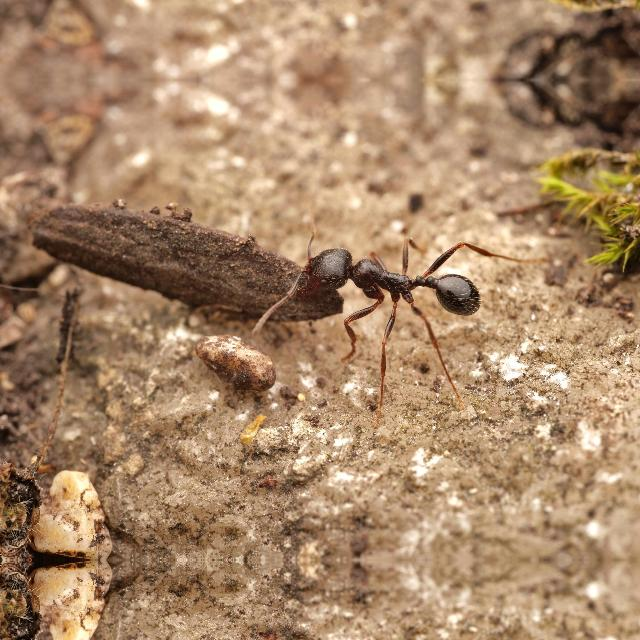Messor: (290, 222, 492, 330)
